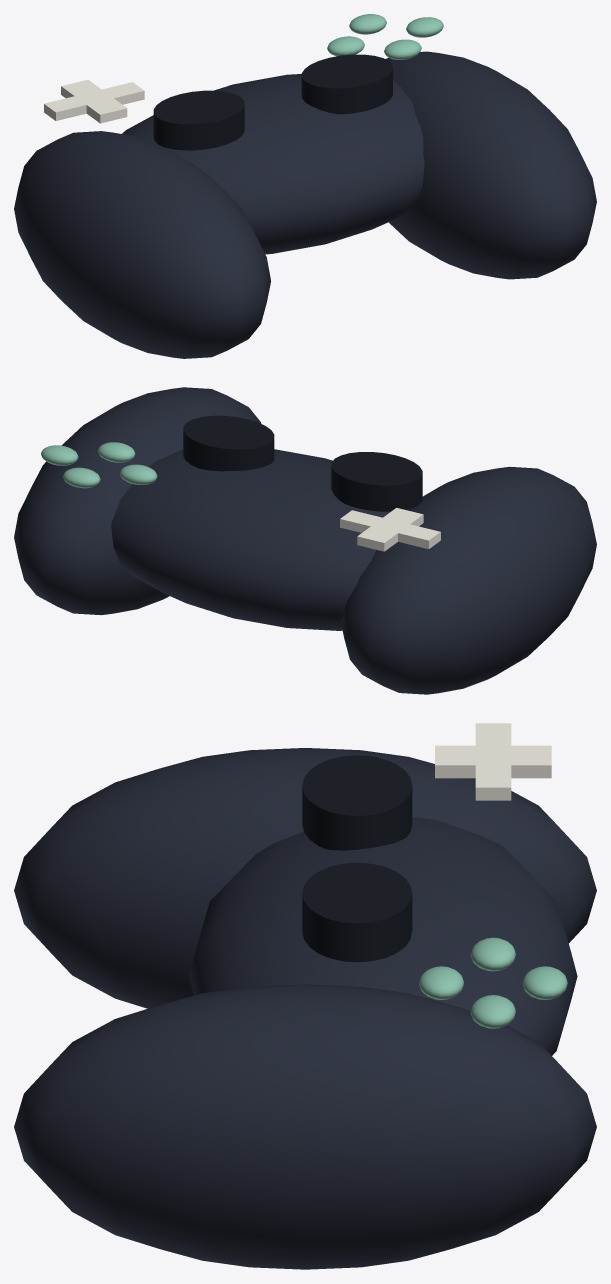
File: game-controller.glb
The picture shows the model from 3 angles, top to bottom: view 1: azimuth 30°, elevation 25°; view 2: azimuth 150°, elevation 25°; view 3: azimuth 270°, elevation 25°; orthographic projection. The views are drawn at different scales.
Parts seen in each view (by area): view 1: game-controller; view 2: game-controller; view 3: game-controller.
Boxes of the visible parts, left/top/right/bottom form: game-controller: left=14, top=14, right=596, bottom=358; game-controller: left=14, top=387, right=596, bottom=694; game-controller: left=14, top=723, right=596, bottom=1269.
Bounding box in the file's own units: 16 × 6 × 11.
